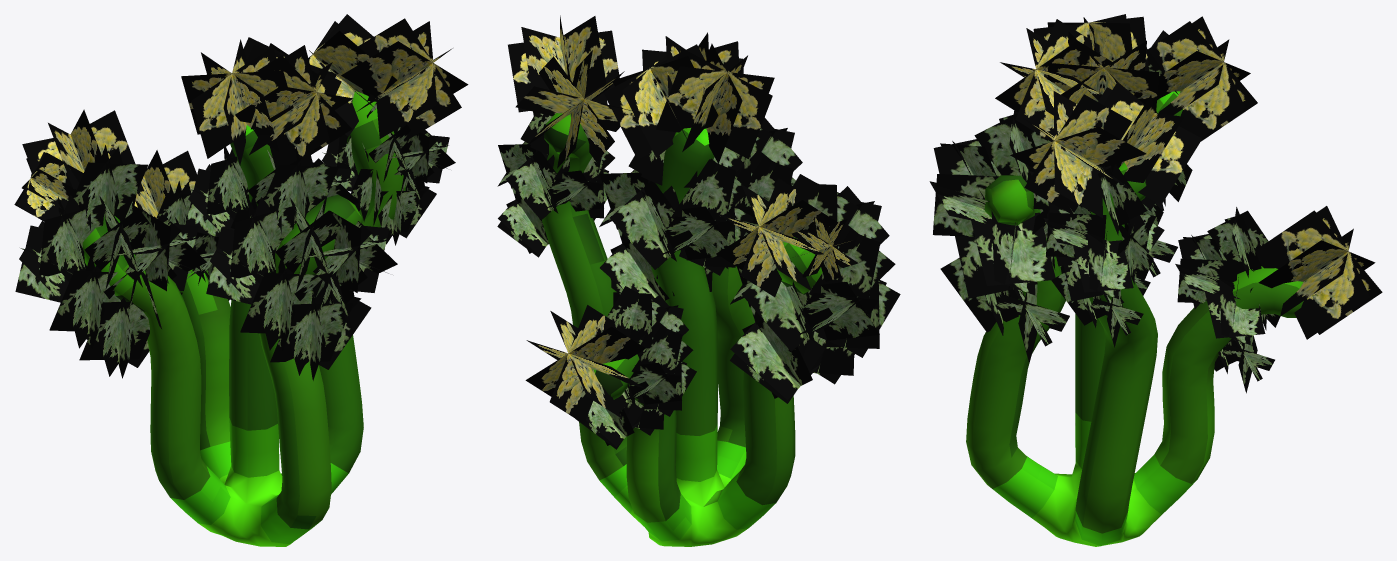
The model's file is ervaDoce.fbx.
3 views of the same model, side by side, from view 1: azimuth 30°, elevation 25°; view 2: azimuth 150°, elevation 25°; view 3: azimuth 270°, elevation 25° (orthographic). The views are drawn at different scales.
Visible parts, largest first — view 1: ervaDocefolha, erva_Doce, ervaDoceFlor; view 2: ervaDocefolha, erva_Doce, ervaDoceFlor; view 3: erva_Doce, ervaDoceFlor, ervaDocefolha.
Boxes of the visible parts, x1,y1,x2,y2 form: ervaDocefolha: (15,94,455,380); erva_Doce: (82,91,405,546); ervaDoceFlor: (14,14,468,221); ervaDocefolha: (497,112,900,449); erva_Doce: (542,113,822,546); ervaDoceFlor: (508,15,858,423); erva_Doce: (966,91,1303,546); ervaDoceFlor: (995,14,1382,339); ervaDocefolha: (929,49,1279,393).
Bounding box in the file's own units: 28.04 × 32.16 × 25.68.
